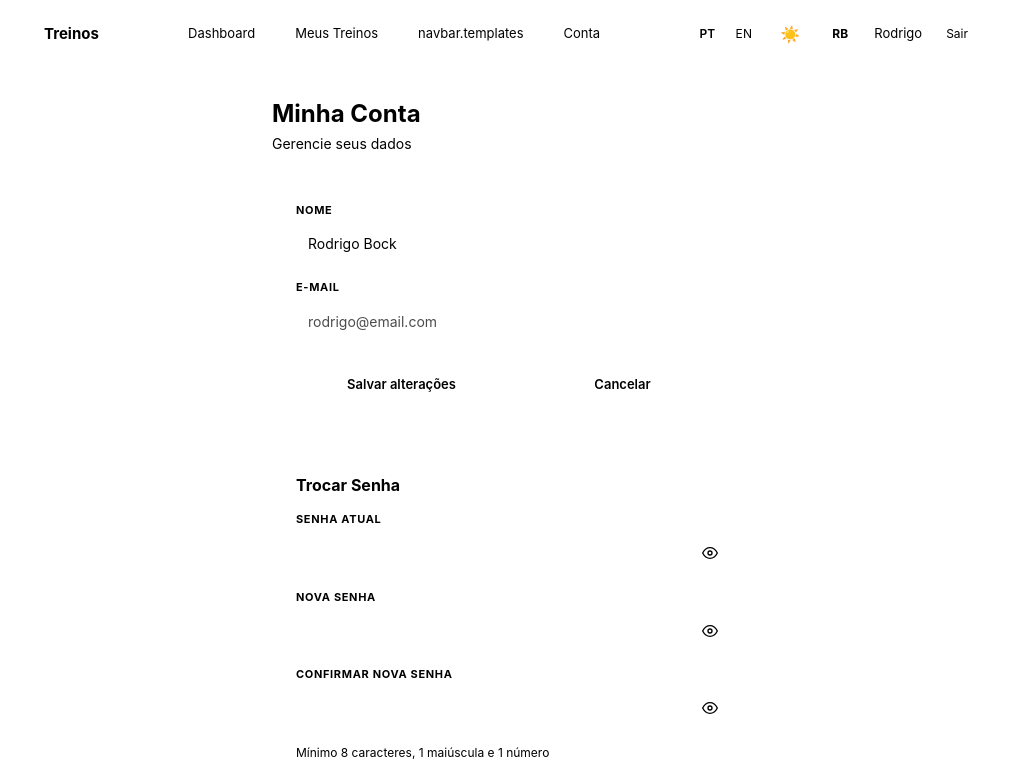
Test: Cancelar restaura o nome original
This screenshot has width=1024, height=768.
Replace the text in the field showing "Rodrigo Bock" below "Nome" with "Nome Novo" at (512, 244), box x1=296 y1=224 x2=728 y2=263
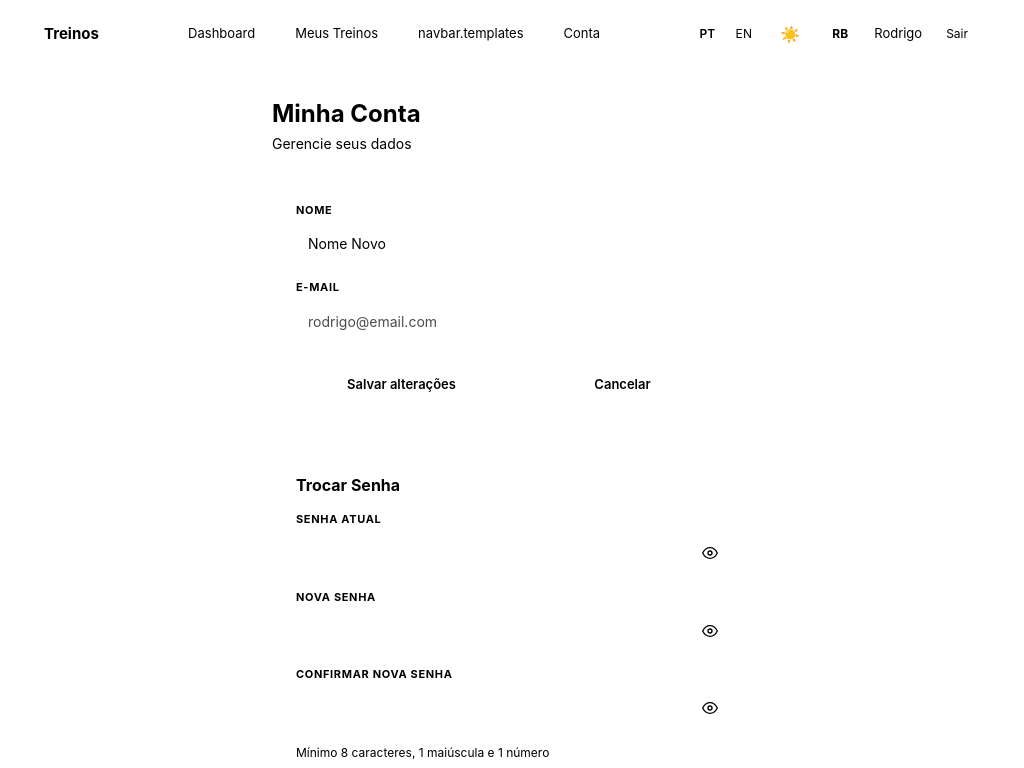
Click the button "Cancelar".
click(622, 385)  # box x1=517 y1=365 x2=728 y2=404
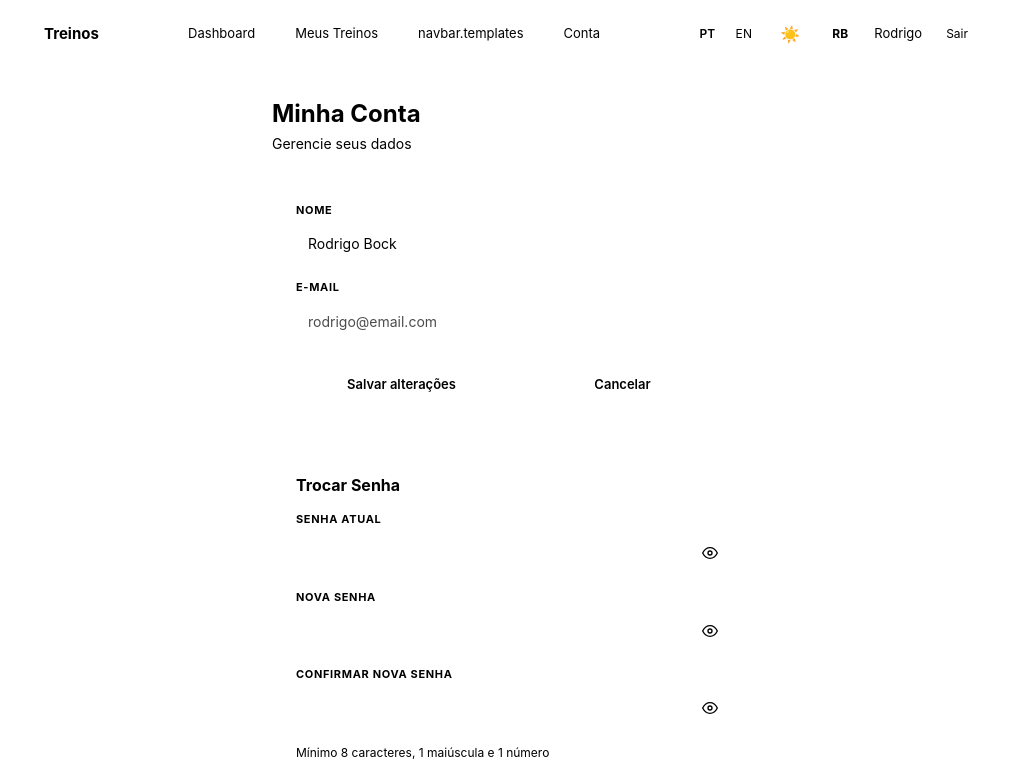
Expected: the field showing "Rodrigo Bock" below "Nome" is shown, x1=296 y1=224 x2=728 y2=263
